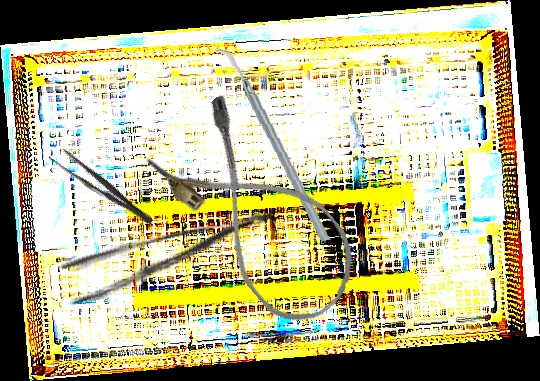Cannula: (142, 89, 376, 340)
Chopper: (212, 42, 332, 248)
Dressing Forceps: (59, 207, 283, 307), (46, 142, 158, 231)
